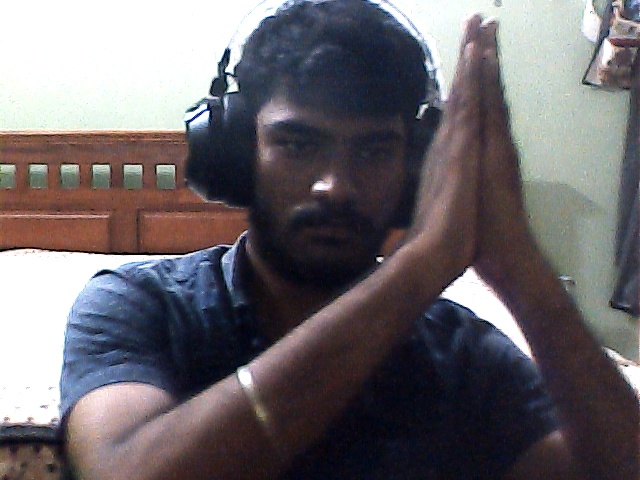Sign: (419, 13, 530, 292)
